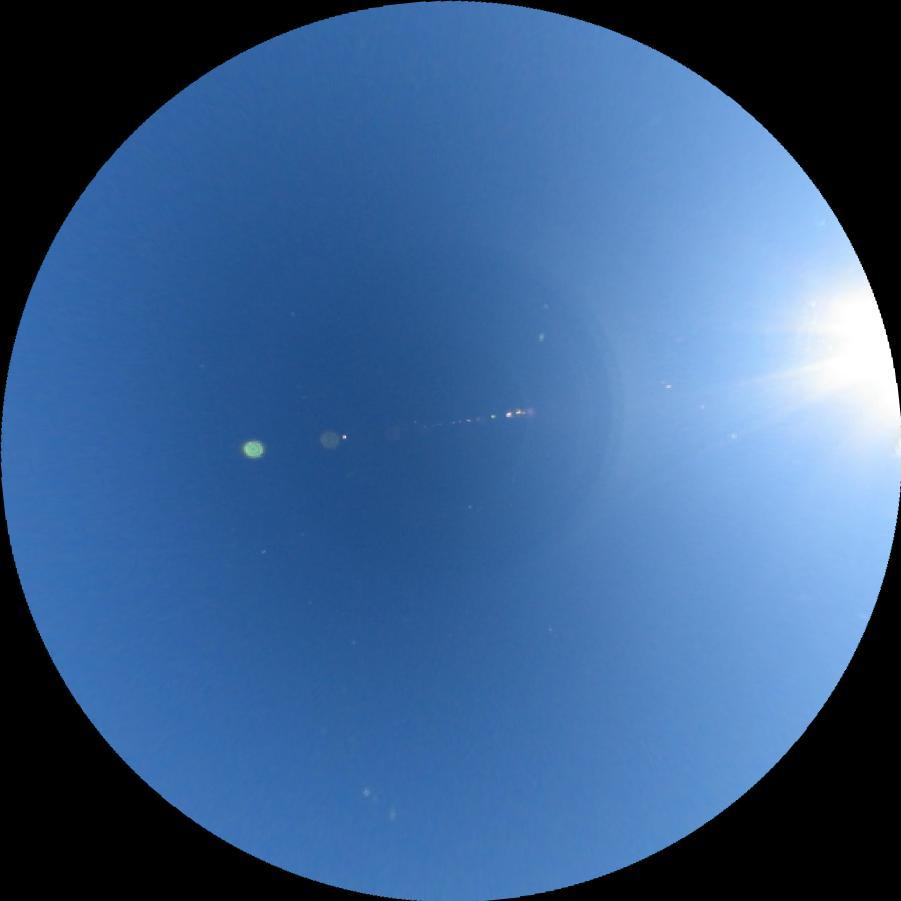contrail young: (891, 433, 900, 456)
sun: (819, 285, 898, 429)
